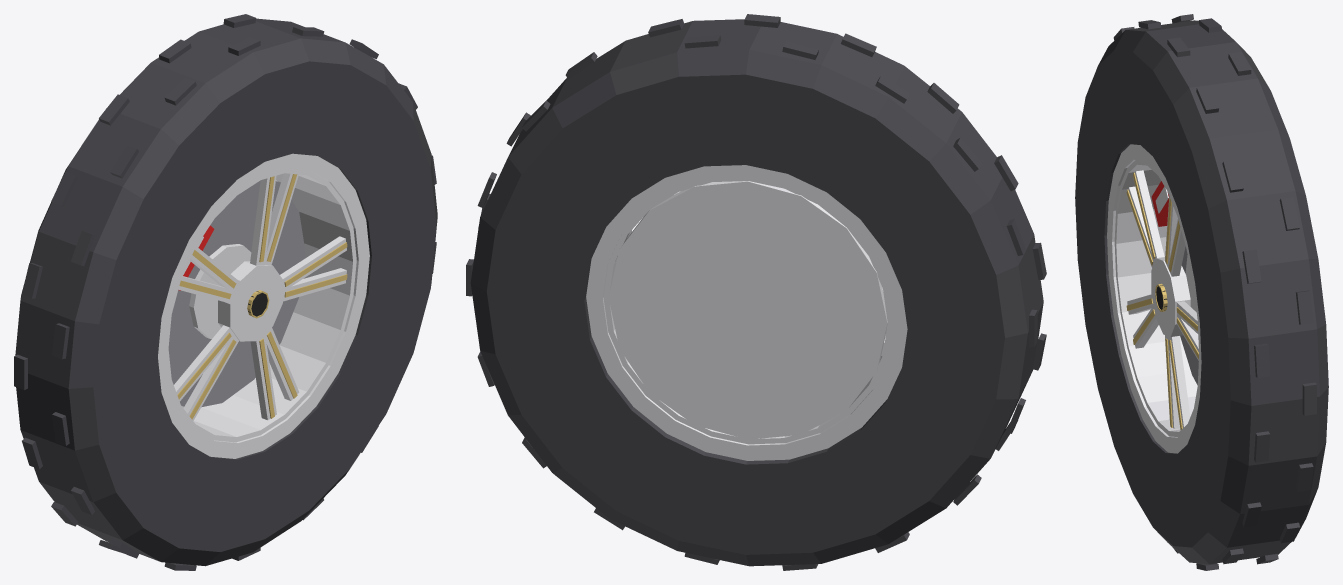
File: motorcarwheel.glb
3 renders of one model, left to right at view 1: azimuth 30°, elevation 25°; view 2: azimuth 150°, elevation 25°; view 3: azimuth 270°, elevation 25°, orthographic. The views are drawn at different scales.
Parts seen in each view (by area): view 1: TireBody, RimInnerLip, RimOuterLip, BrakeRotor, RimHubCenter, BrakeRotorCap, Spoke_V1_1, Spoke_V2_3, Spoke_V2_4, Spoke_V2_1, Spoke_V1_0, Spoke_V1_3 (+4 smaller); view 2: TireBody, RimBackPlate, RimOuterLip, RimInnerLip; view 3: TireBody, RimInnerLip, RimOuterLip, RimHubCenter, Spoke_V2_2, Spoke_V1_4, Tread_L_1, Tread_L_2, Tread_R_1, Tread_R_0, Tread_R_2, Tread_L_0 (+12 smaller).
Boxes of the visible parts, box(x1,y1,x2,y2) form: TireBody: box(15, 18, 437, 566); RimInnerLip: box(167, 168, 356, 442); RimOuterLip: box(158, 153, 369, 458); BrakeRotor: box(168, 180, 305, 407); RimHubCenter: box(218, 261, 282, 341); BrakeRotorCap: box(189, 244, 251, 338); Spoke_V1_1: box(250, 175, 276, 265); Spoke_V2_3: box(174, 325, 234, 401); Spoke_V2_4: box(250, 335, 276, 420); Spoke_V2_1: box(263, 173, 298, 265); Spoke_V1_0: box(280, 236, 346, 291); Spoke_V1_3: box(183, 333, 238, 420); TireBody: box(470, 19, 1043, 566); RimBackPlate: box(608, 181, 887, 439); RimOuterLip: box(586, 165, 907, 460); RimInnerLip: box(603, 177, 892, 444); TireBody: box(1075, 20, 1328, 564); RimInnerLip: box(1114, 160, 1197, 436); RimOuterLip: box(1107, 144, 1201, 453); RimHubCenter: box(1151, 257, 1190, 336); Spoke_V2_2: box(1133, 170, 1164, 261); Spoke_V1_4: box(1168, 336, 1190, 429); Tread_L_1: box(1295, 290, 1313, 324); Tread_L_2: box(1279, 197, 1300, 230); Tread_R_1: box(1242, 249, 1261, 283); Tread_R_0: box(1254, 343, 1270, 377); Tread_R_2: box(1222, 159, 1243, 192); Tread_L_0: box(1302, 382, 1316, 415).
Bounding box in the file's own units: 2.01 × 2.04 × 0.9362.
